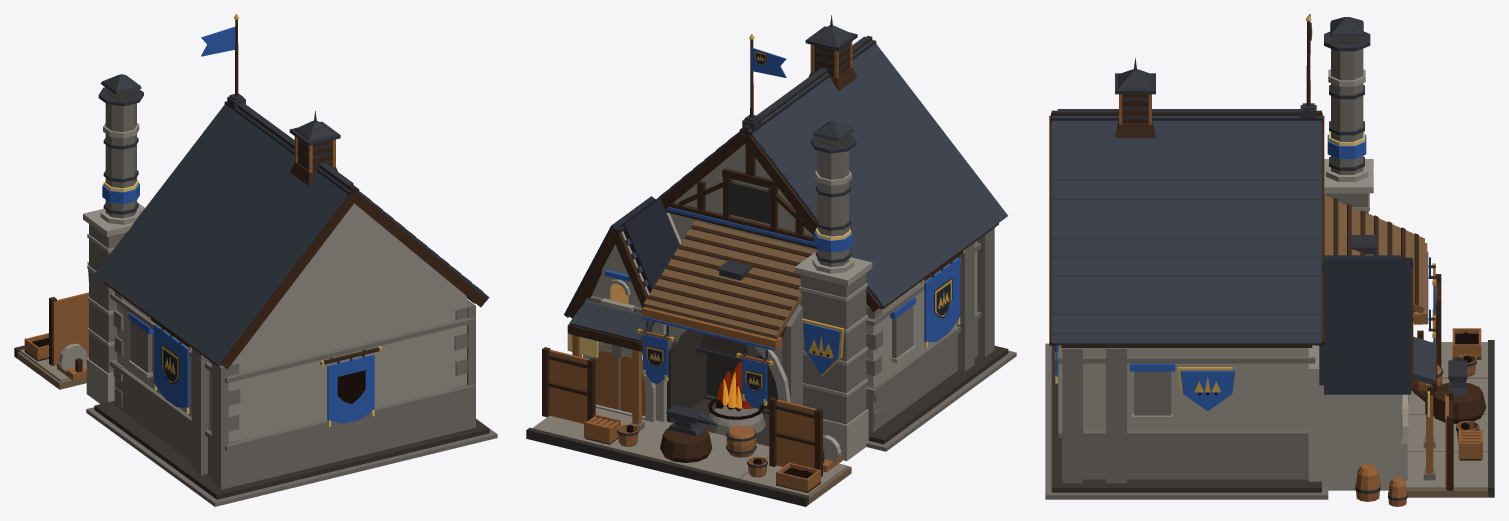
File: 铁匠铺_手游_中.glb
3 views of the same model, side by side, from view 1: azimuth 30°, elevation 25°; view 2: azimuth 150°, elevation 25°; view 3: azimuth 270°, elevation 25° (orthographic). The views are drawn at different scales.
Visible parts, largest first — view 1: BS-主体, BS-team, BS-自发光; view 2: BS-主体, BS-team, BS-自发光, BS-team_trim; view 3: BS-主体, BS-team, BS-自发光.
Boxes of the visible parts, bbox=[...] form: BS-主体: bbox=[14, 14, 497, 506]; BS-team: bbox=[102, 26, 374, 423]; BS-自发光: bbox=[32, 338, 365, 404]; BS-主体: bbox=[526, 15, 1016, 506]; BS-team: bbox=[605, 48, 960, 407]; BS-自发光: bbox=[610, 50, 952, 478]; BS-team_trim: bbox=[567, 228, 960, 405]; BS-主体: bbox=[1045, 15, 1494, 506]; BS-team: bbox=[1055, 14, 1435, 411]; BS-自发光: bbox=[1055, 23, 1478, 429].
Size of the model in its own units: 9.93 by 11.83 by 11.81.
Materials: 4 (2 with a texture image).
